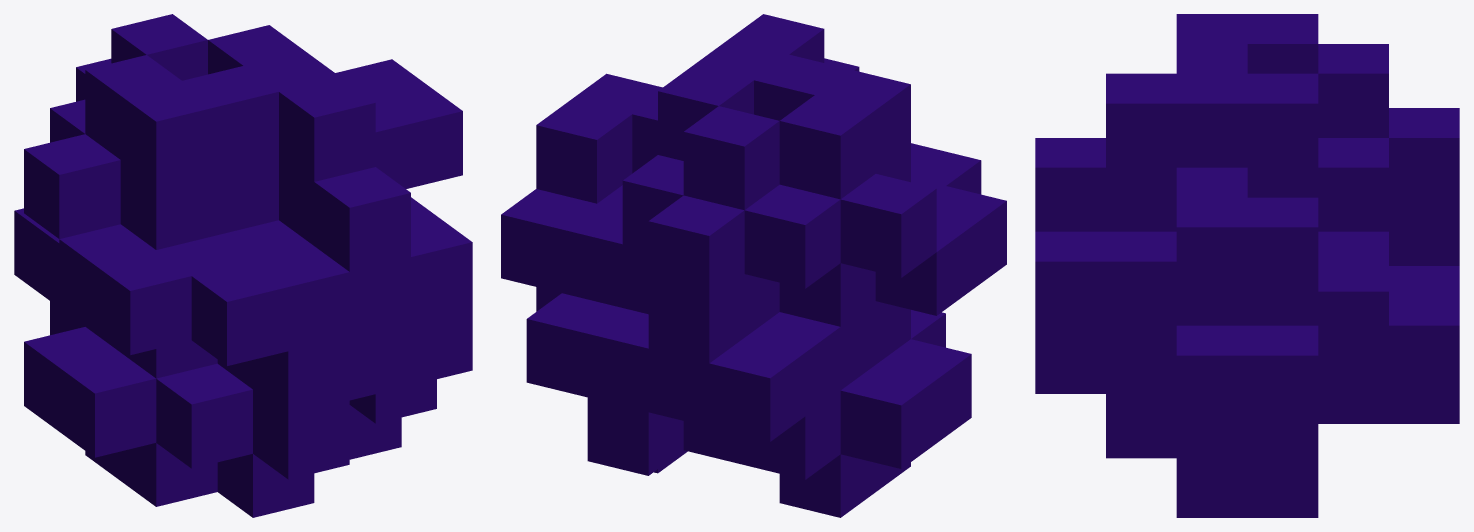
The model's file is planeta-6b.obj.
3 renders of one model, left to right at view 1: azimuth 30°, elevation 25°; view 2: azimuth 150°, elevation 25°; view 3: azimuth 270°, elevation 25°, orthographic.
Bounding box in the file's own units: 0.6 × 0.6 × 0.6.
Materials: 1 (1 with a texture image).
